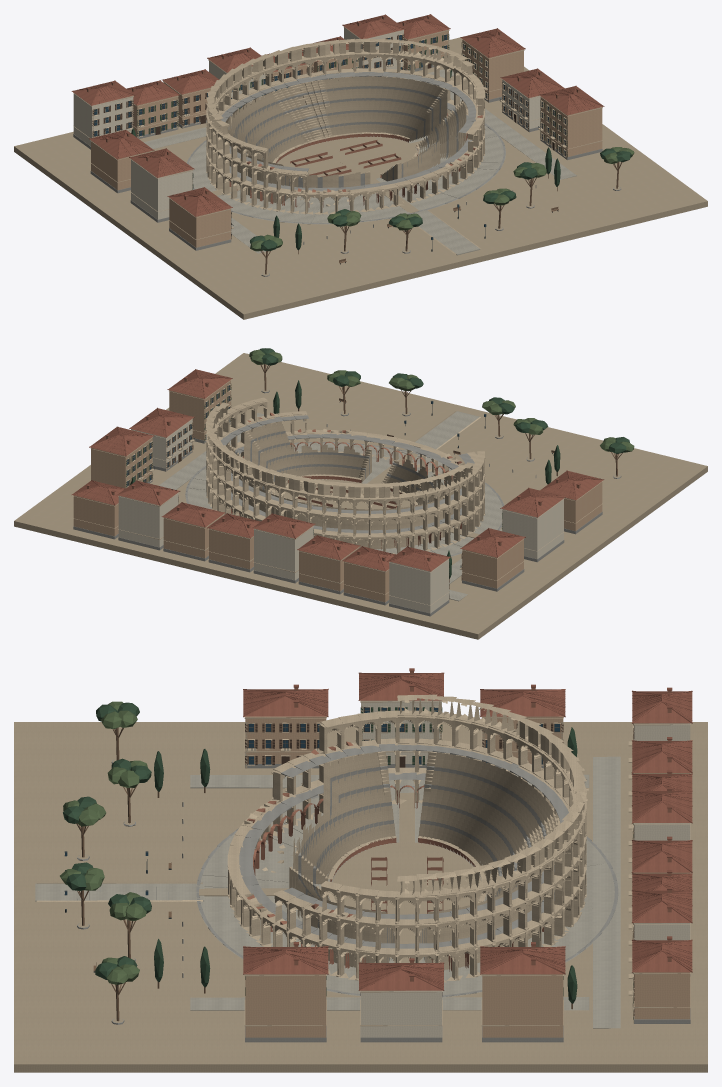
The model's file is IT_Rome_LOD1.glb.
3 renders of one model, top to bottom at view 1: azimuth 30°, elevation 25°; view 2: azimuth 150°, elevation 25°; view 3: azimuth 270°, elevation 25°, orthographic. The views are drawn at different scales.
Visible parts, largest first — view 1: IT_Rome_Ground_LOD1, Colosseum_Seating_LOD1, Street_Facades_LOD1, Street_Roofs_LOD1, Piazza_Paving_LOD1, Colosseum_Cornices_LOD1, Colosseum_Piers_LOD1, Street_Trim_LOD1, Colosseum_Arena_LOD1, Street_RoofDetails_LOD1, Vegetation_Canopy_LOD1, Colosseum_Attic_LOD1 (+6 smaller); view 2: IT_Rome_Ground_LOD1, Street_Facades_LOD1, Street_Roofs_LOD1, Colosseum_Cornices_LOD1, Colosseum_Seating_LOD1, Colosseum_Piers_LOD1, Piazza_Paving_LOD1, Street_RoofDetails_LOD1, Street_Trim_LOD1, Vegetation_Canopy_LOD1, Colosseum_Attic_LOD1, Colosseum_Spandrels_LOD1 (+7 smaller); view 3: IT_Rome_Ground_LOD1, Street_Roofs_LOD1, Street_Facades_LOD1, Piazza_Paving_LOD1, Colosseum_Seating_LOD1, Colosseum_Cornices_LOD1, Colosseum_Piers_LOD1, Street_RoofDetails_LOD1, Vegetation_Canopy_LOD1, Colosseum_Arena_LOD1, Street_Trim_LOD1, Colosseum_Spandrels_LOD1 (+8 smaller).
Boxes of the visible parts, box(x1,y1,x2,y2) form: IT_Rome_Ground_LOD1: box(14, 33, 707, 319); Colosseum_Seating_LOD1: box(227, 76, 466, 203); Street_Facades_LOD1: box(73, 28, 602, 247); Street_Roofs_LOD1: box(72, 14, 602, 216); Piazza_Paving_LOD1: box(144, 69, 576, 255); Colosseum_Cornices_LOD1: box(206, 38, 484, 214); Colosseum_Piers_LOD1: box(206, 53, 485, 214); Street_Trim_LOD1: box(73, 26, 602, 250); Colosseum_Arena_LOD1: box(272, 132, 419, 179); Street_RoofDetails_LOD1: box(71, 14, 604, 216); Vegetation_Canopy_LOD1: box(131, 70, 634, 251); Colosseum_Attic_LOD1: box(205, 41, 472, 134); IT_Rome_Ground_LOD1: box(14, 353, 707, 639); Street_Facades_LOD1: box(73, 380, 602, 613); Street_Roofs_LOD1: box(73, 369, 603, 571); Colosseum_Cornices_LOD1: box(206, 397, 484, 554); Colosseum_Seating_LOD1: box(227, 421, 461, 548); Colosseum_Piers_LOD1: box(206, 403, 485, 553); Piazza_Paving_LOD1: box(159, 411, 503, 601); Street_RoofDetails_LOD1: box(71, 369, 604, 571); Street_Trim_LOD1: box(73, 379, 602, 616); Vegetation_Canopy_LOD1: box(130, 348, 634, 578); Colosseum_Attic_LOD1: box(205, 406, 472, 497); Colosseum_Spandrels_LOD1: box(207, 402, 481, 541); IT_Rome_Ground_LOD1: box(14, 722, 707, 1072); Street_Roofs_LOD1: box(243, 673, 692, 990); Street_Facades_LOD1: box(245, 700, 690, 1037); Piazza_Paving_LOD1: box(35, 756, 620, 1028); Colosseum_Seating_LOD1: box(289, 751, 558, 970); Colosseum_Cornices_LOD1: box(227, 694, 586, 982); Colosseum_Piers_LOD1: box(227, 717, 586, 980); Street_RoofDetails_LOD1: box(243, 668, 692, 990); Vegetation_Canopy_LOD1: box(60, 701, 577, 1003); Colosseum_Arena_LOD1: box(328, 836, 486, 940); Street_Trim_LOD1: box(244, 700, 690, 1042); Colosseum_Spandrels_LOD1: box(232, 717, 582, 960).
Bounding box in the file's own units: 140 × 22.07 × 120.
15 materials, 15 textured.
